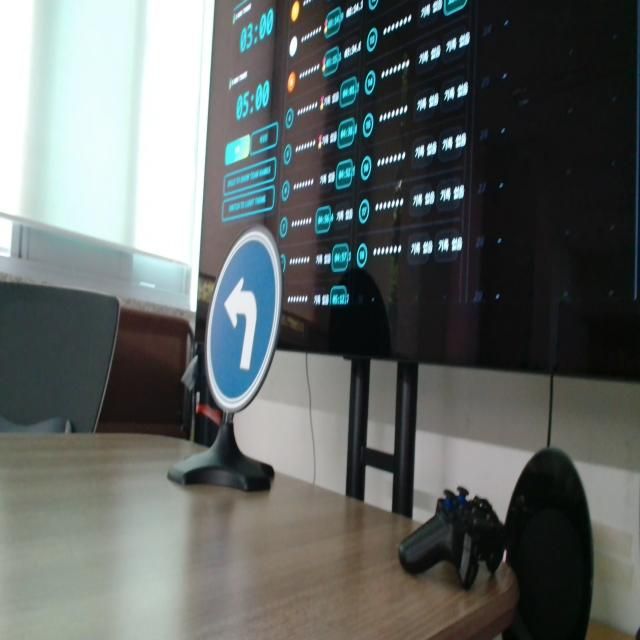left_direction: (201, 210, 295, 440)
